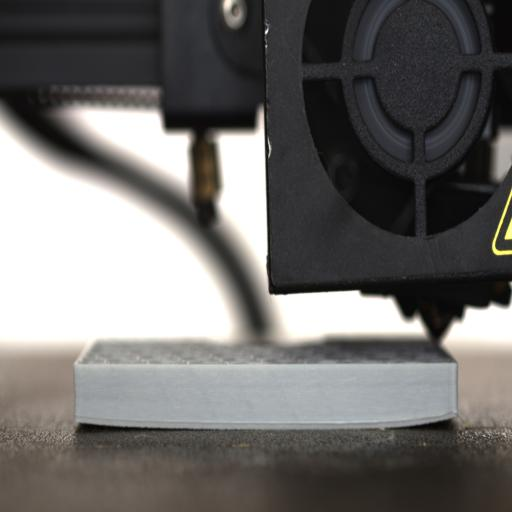warp: (414, 406, 460, 432), (71, 414, 118, 434)
